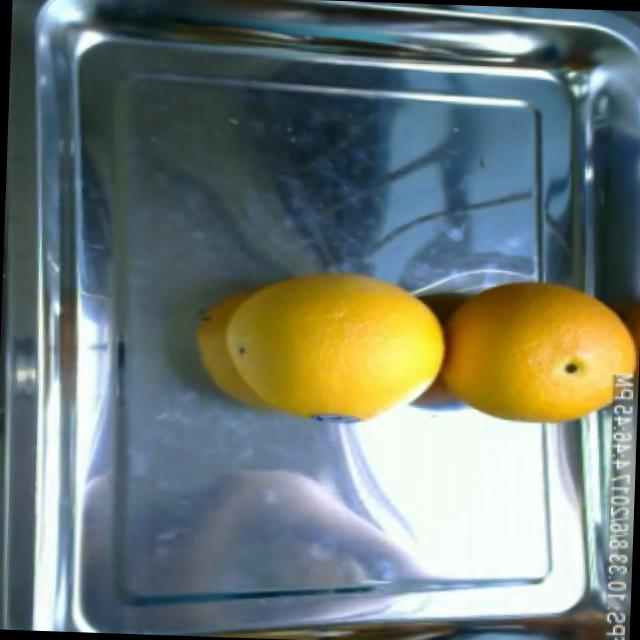Fruit: (254, 242, 466, 440), (182, 270, 370, 432)
